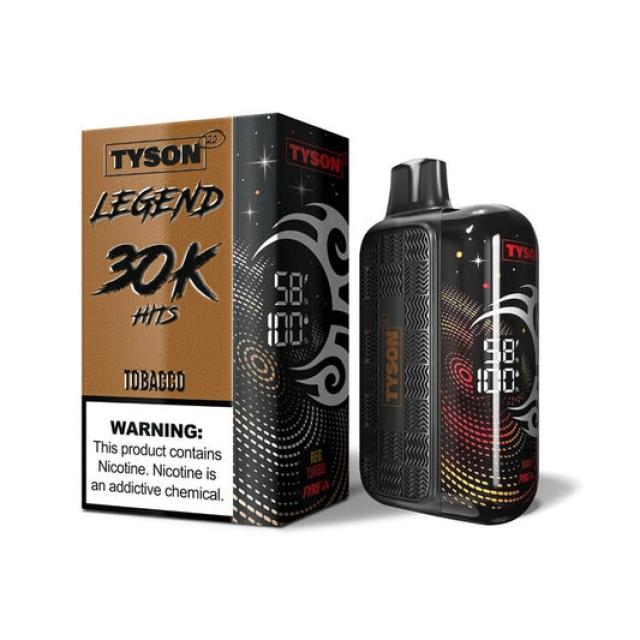Vape-images: (357, 156, 540, 525)
